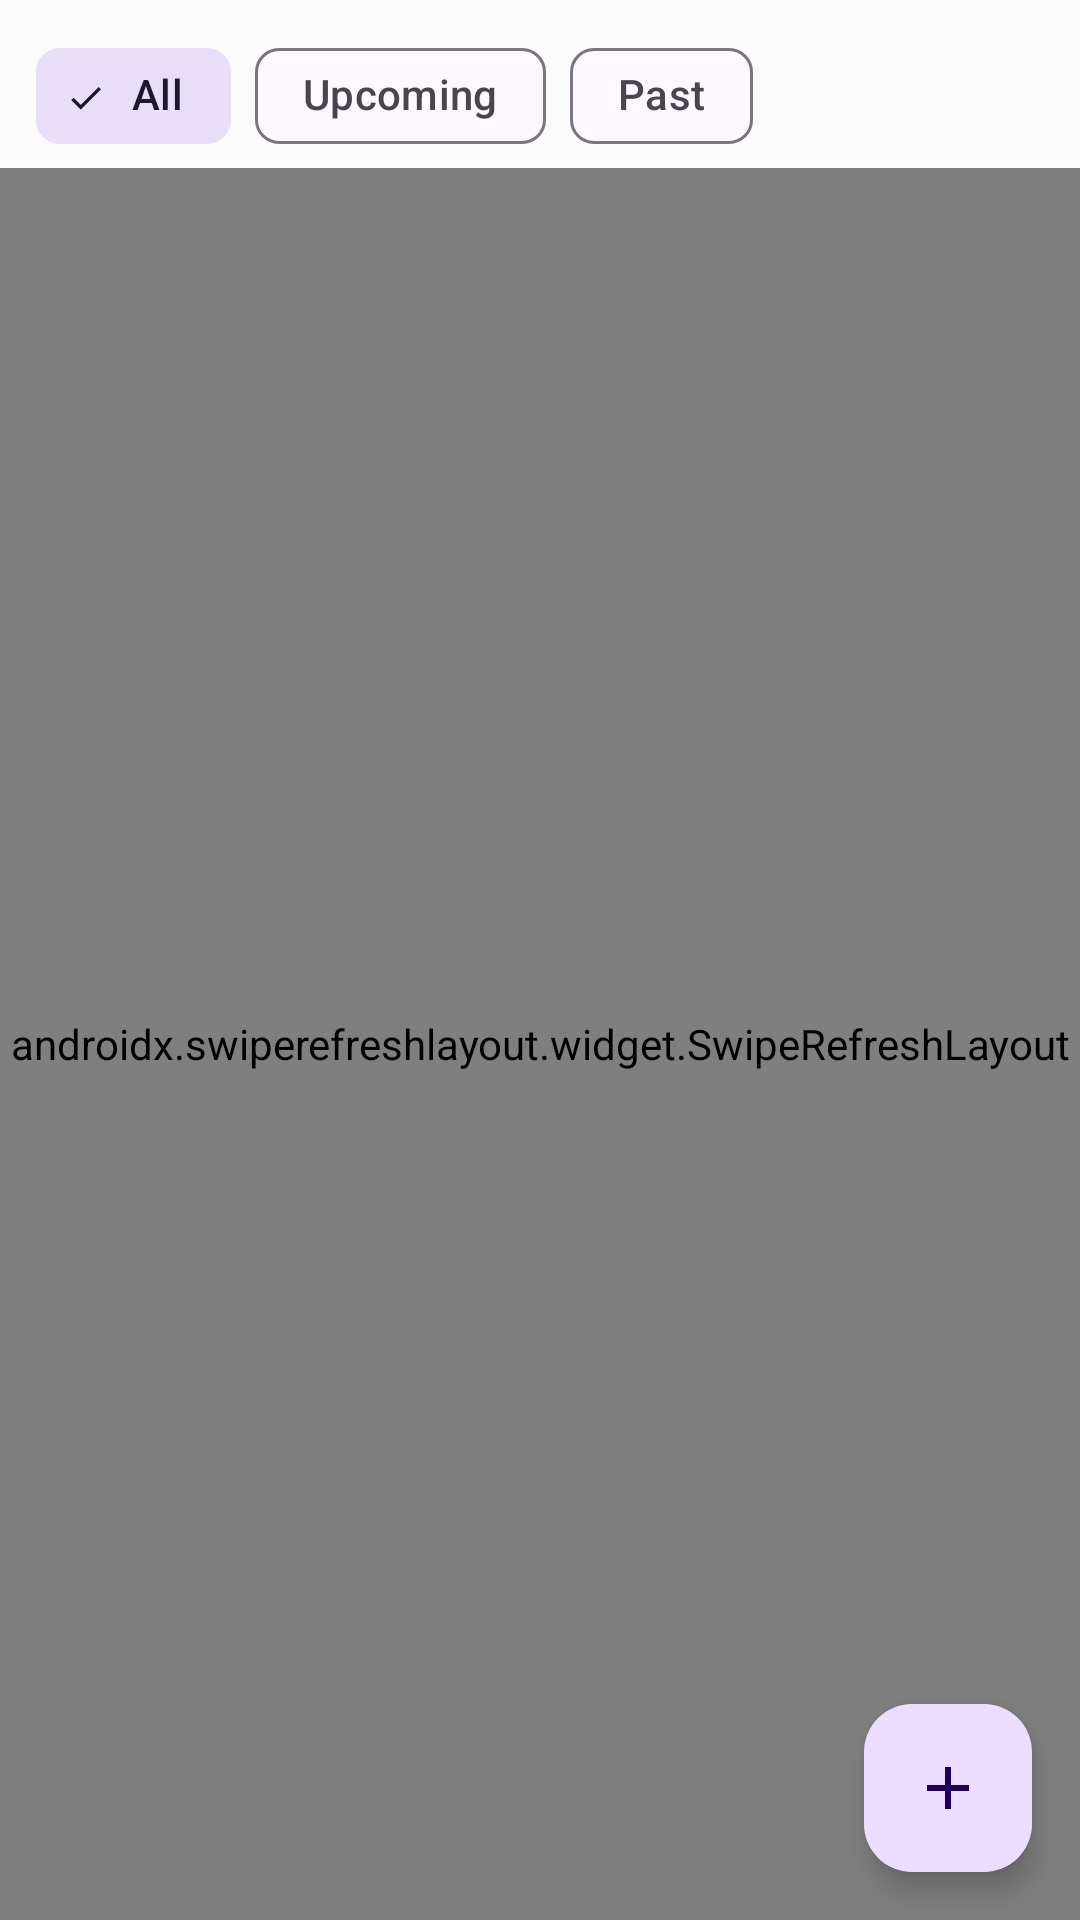

Where icons sit on this 1080px×1920px app screen, as region(x1, y1, x2, y2):
Add event: region(864, 1704, 1032, 1872)
